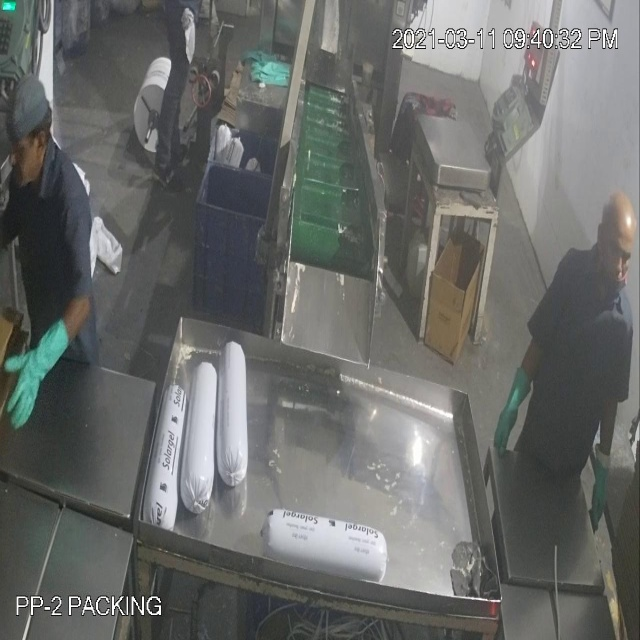Guantes: (3, 309, 76, 442), (489, 362, 534, 470), (583, 431, 614, 548)
